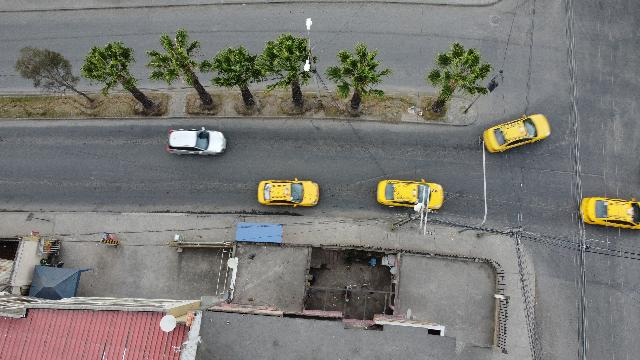Vehiculo: (483, 114, 551, 153), (376, 179, 444, 212), (580, 197, 640, 229), (257, 178, 319, 206), (166, 128, 226, 156)
